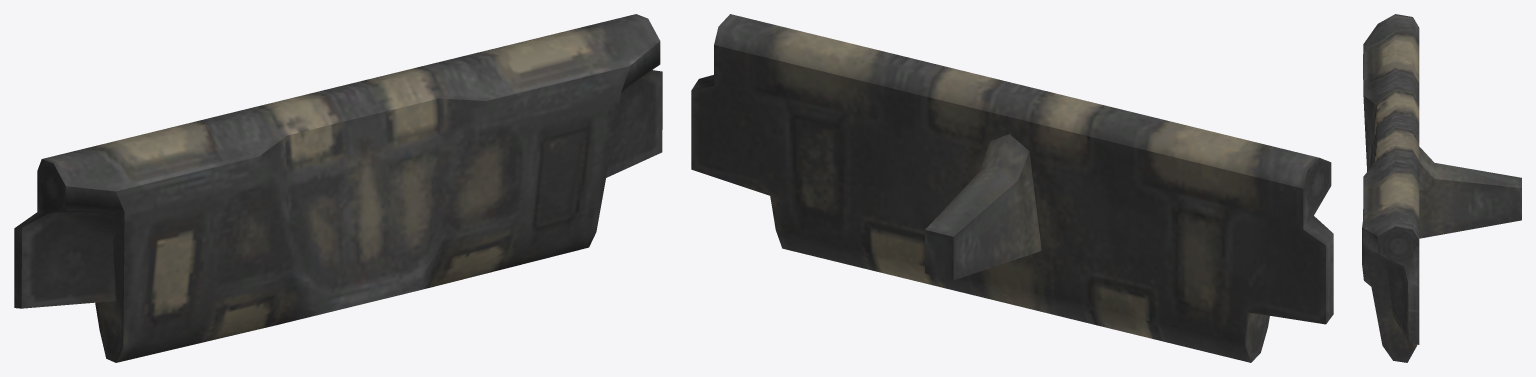
The picture shows the model from 3 angles, left to right: view 1: azimuth 30°, elevation 25°; view 2: azimuth 150°, elevation 25°; view 3: azimuth 270°, elevation 25°; orthographic projection. The views are drawn at different scales.
Parts seen in each view (by area): view 1: set_0_group_0; view 2: set_0_group_0; view 3: set_0_group_0.
Boxes of the visible parts, <box> form: set_0_group_0: <box>14,14,662,362</box>; set_0_group_0: <box>691,14,1333,362</box>; set_0_group_0: <box>1362,14,1521,362</box>.
Bounding box in the file's own units: 0.6508 × 0.2095 × 0.192.
Materials: 1 (1 with a texture image).
